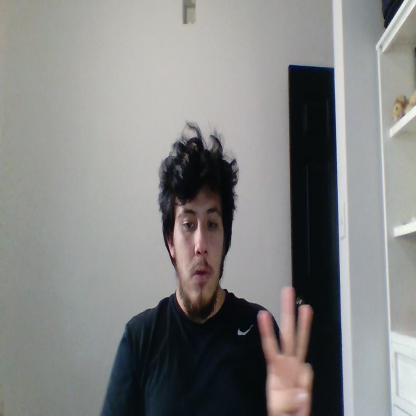W: (257, 286, 314, 415)
